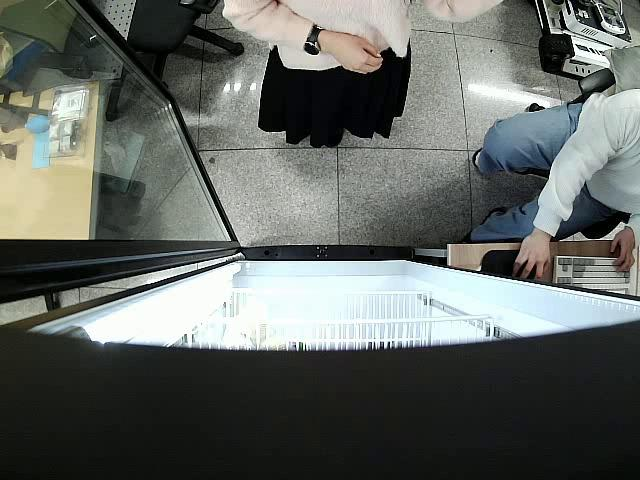00_hand: (334, 31, 384, 76), (516, 235, 553, 282)
